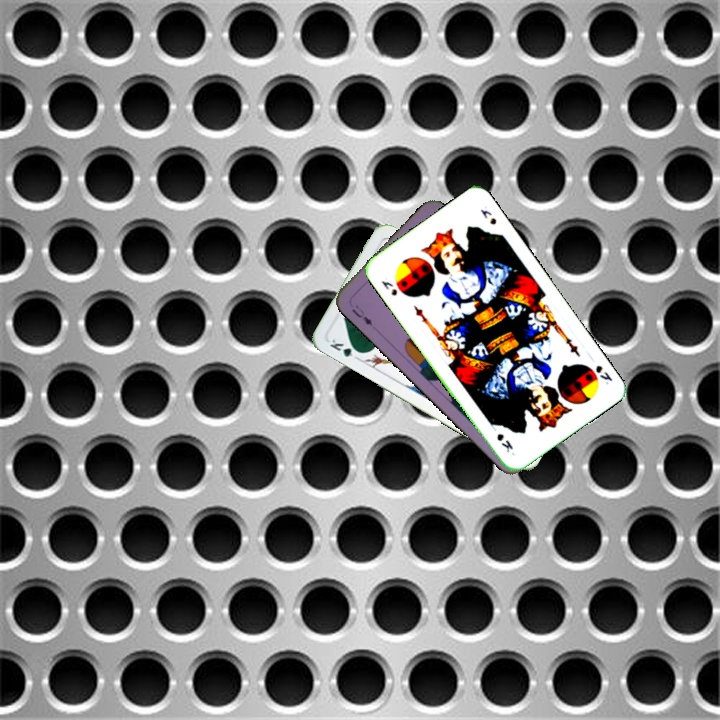EU: (348, 301, 375, 328)
GK: (326, 335, 364, 363)
SK: (591, 361, 615, 387), (377, 277, 400, 298)
